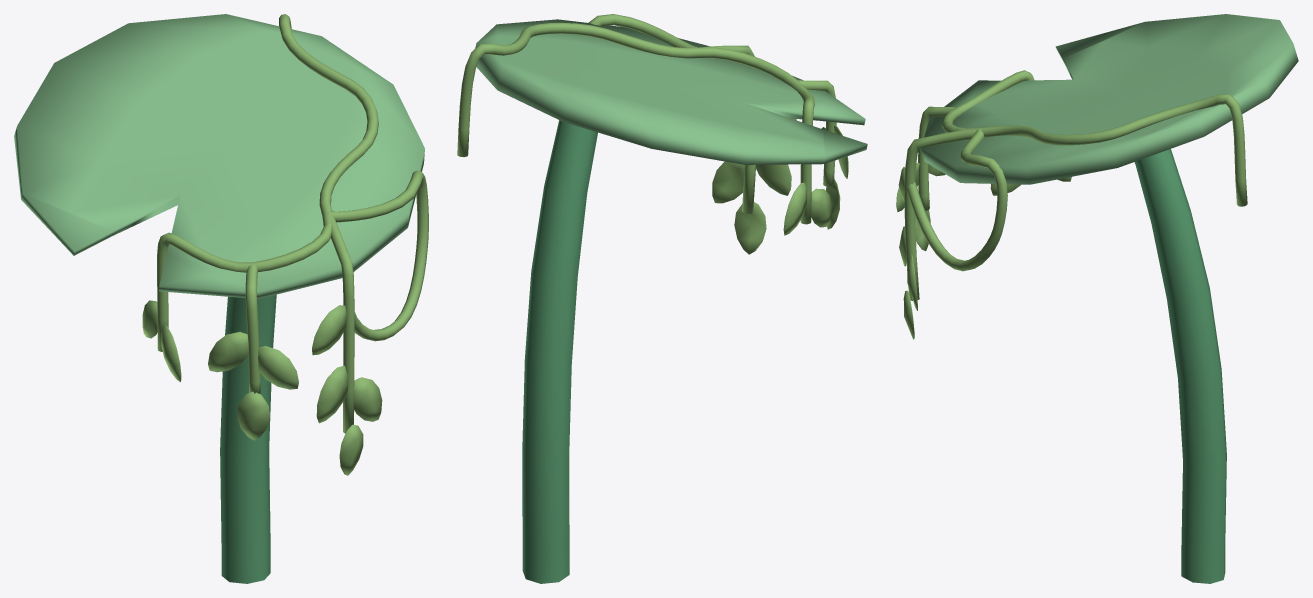
The model's file is Biglilypad2.fbx.
3 views of the same model, side by side, from view 1: azimuth 30°, elevation 25°; view 2: azimuth 150°, elevation 25°; view 3: azimuth 270°, elevation 25° (orthographic). The views are drawn at different scales.
Visible parts, largest first — view 1: Lotus2; view 2: Lotus2; view 3: Lotus2.
Boxes of the visible parts, x1,y1,x2,y2 form: Lotus2: (14, 14, 428, 583); Lotus2: (457, 14, 867, 583); Lotus2: (896, 14, 1298, 583).
Size of the model in its own units: 196 by 284 by 205.
